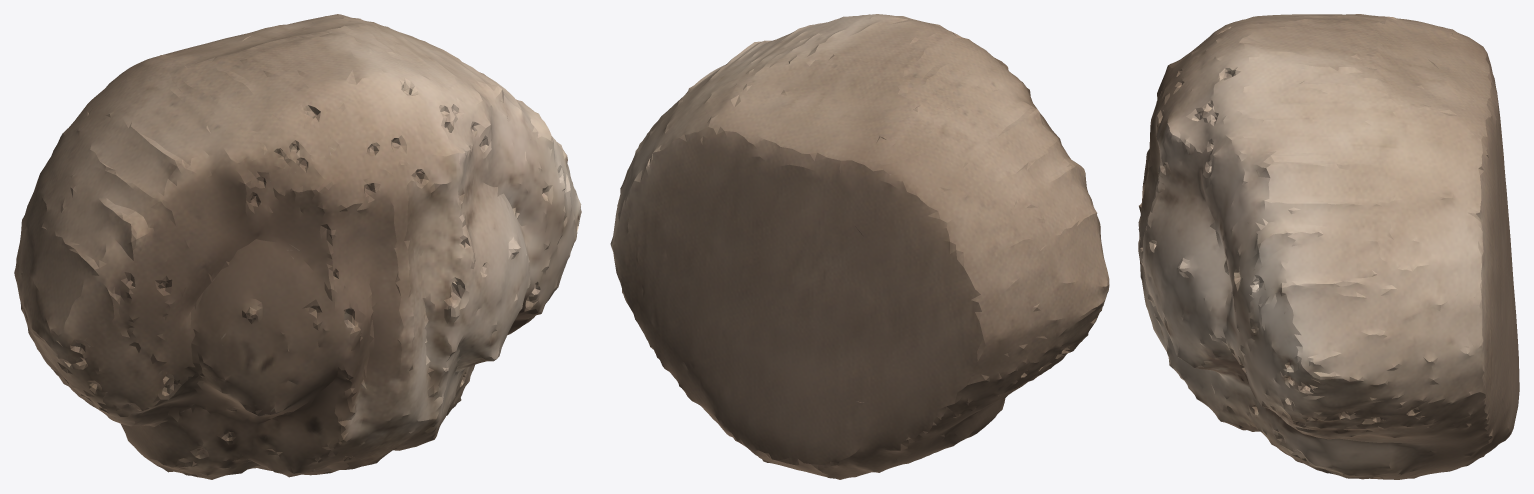
The model's file is meteorite_jagged.glb.
3 renders of one model, left to right at view 1: azimuth 30°, elevation 25°; view 2: azimuth 150°, elevation 25°; view 3: azimuth 270°, elevation 25°, orthographic. The views are drawn at different scales.
Visible parts, largest first — view 1: meteorite_jagged; view 2: meteorite_jagged; view 3: meteorite_jagged.
Part boxes in pixels (box(x1,y1,x2,y2)): meteorite_jagged: box(14, 14, 581, 479); meteorite_jagged: box(610, 14, 1109, 479); meteorite_jagged: box(1138, 14, 1519, 479).
Bounding box in the file's own units: 1.89 × 1.51 × 1.24.
Materials: 1 (1 with a texture image).
